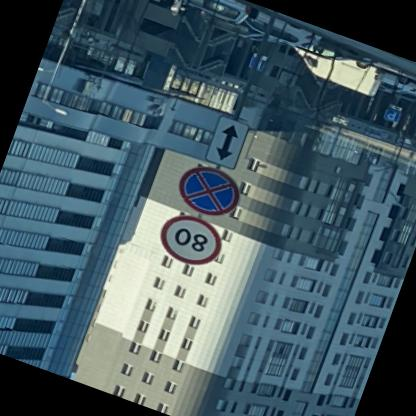speedlimit: (154, 209, 231, 274)
